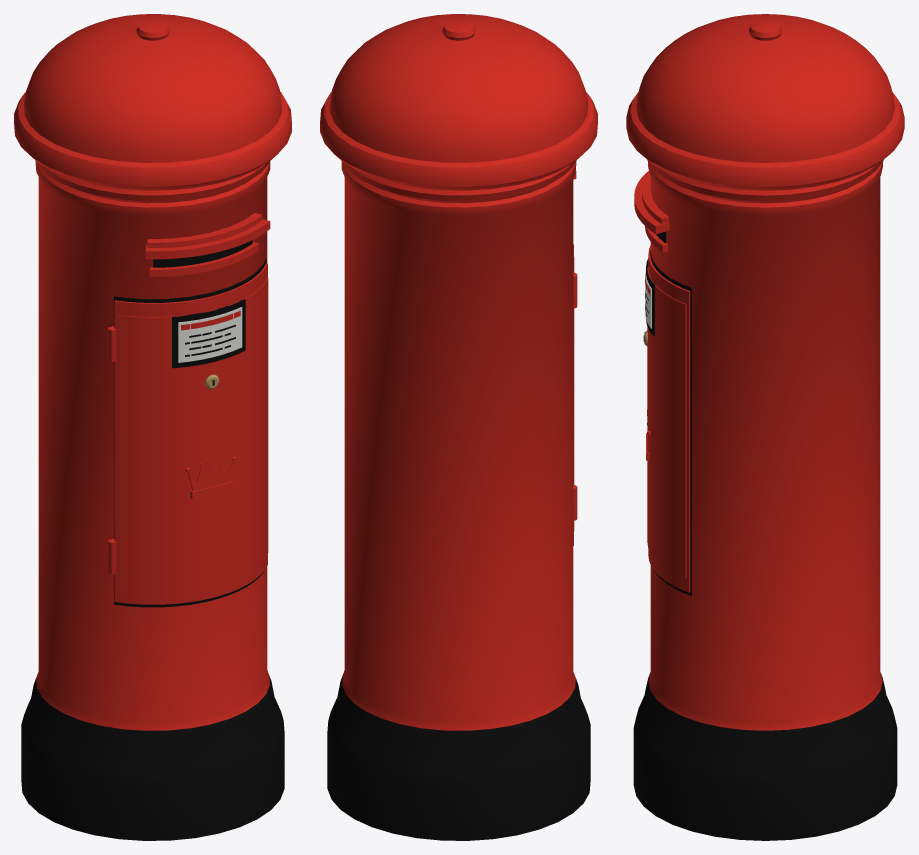
The model's file is street.furniture.post_box_a.glb.
The picture shows the model from 3 angles, left to right: view 1: azimuth 30°, elevation 25°; view 2: azimuth 150°, elevation 25°; view 3: azimuth 270°, elevation 25°; orthographic projection.
Visible parts, largest first — view 1: main__enamel_c22, main__rubber, main__enamel_ddd; view 2: main__enamel_c22, main__rubber; view 3: main__enamel_c22, main__rubber.
Boxes of the visible parts, left/top/right/bottom form: main__enamel_c22: left=14, top=14, right=291, bottom=730; main__rubber: left=21, top=240, right=284, bottom=840; main__enamel_ddd: left=178, top=307, right=242, bottom=362; main__enamel_c22: left=320, top=14, right=597, bottom=730; main__rubber: left=327, top=676, right=590, bottom=840; main__enamel_c22: left=626, top=14, right=904, bottom=730; main__rubber: left=633, top=231, right=897, bottom=840.
Size of the model in its own units: 0.57 by 1.72 by 0.57.
